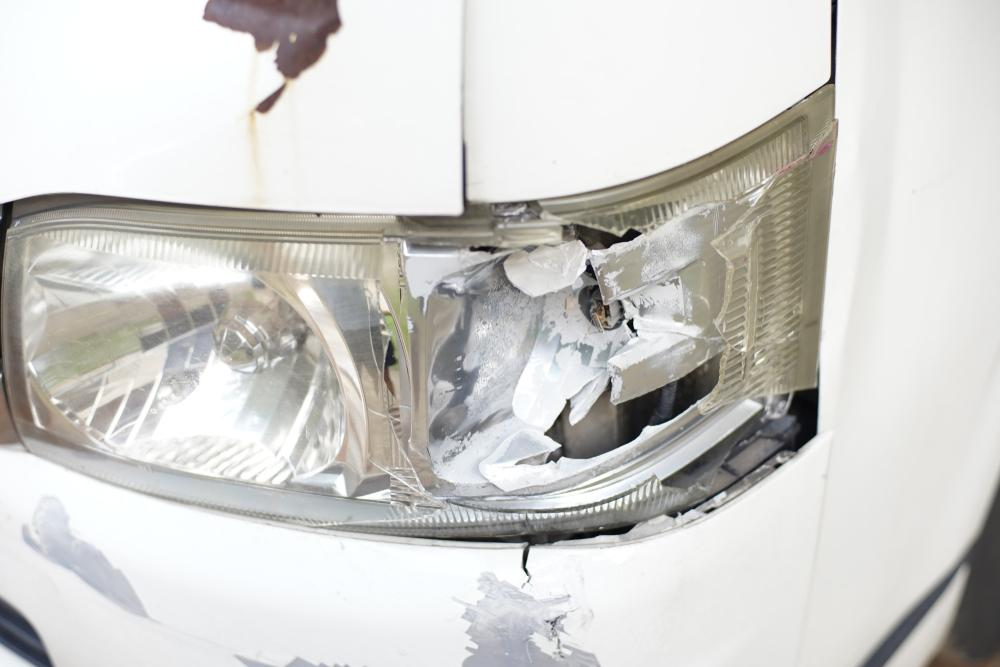crack: (520, 544, 533, 585)
lamp broken: (0, 88, 839, 533)
scratch: (14, 492, 159, 626), (453, 563, 606, 667)
